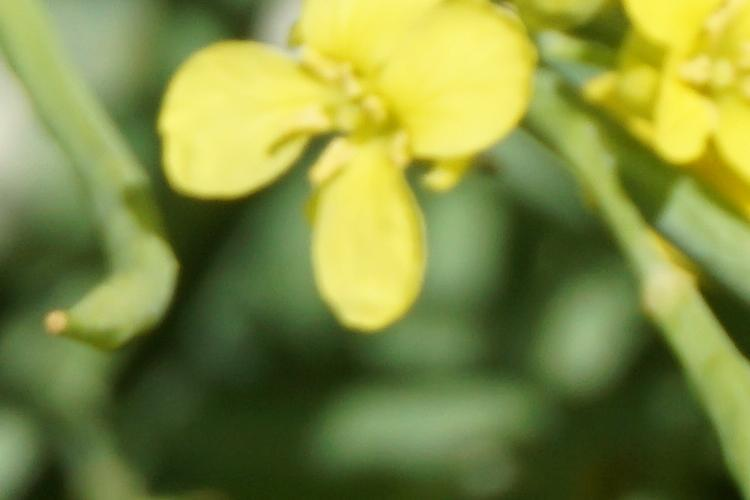yellow: (163, 12, 533, 333), (623, 19, 748, 171)
